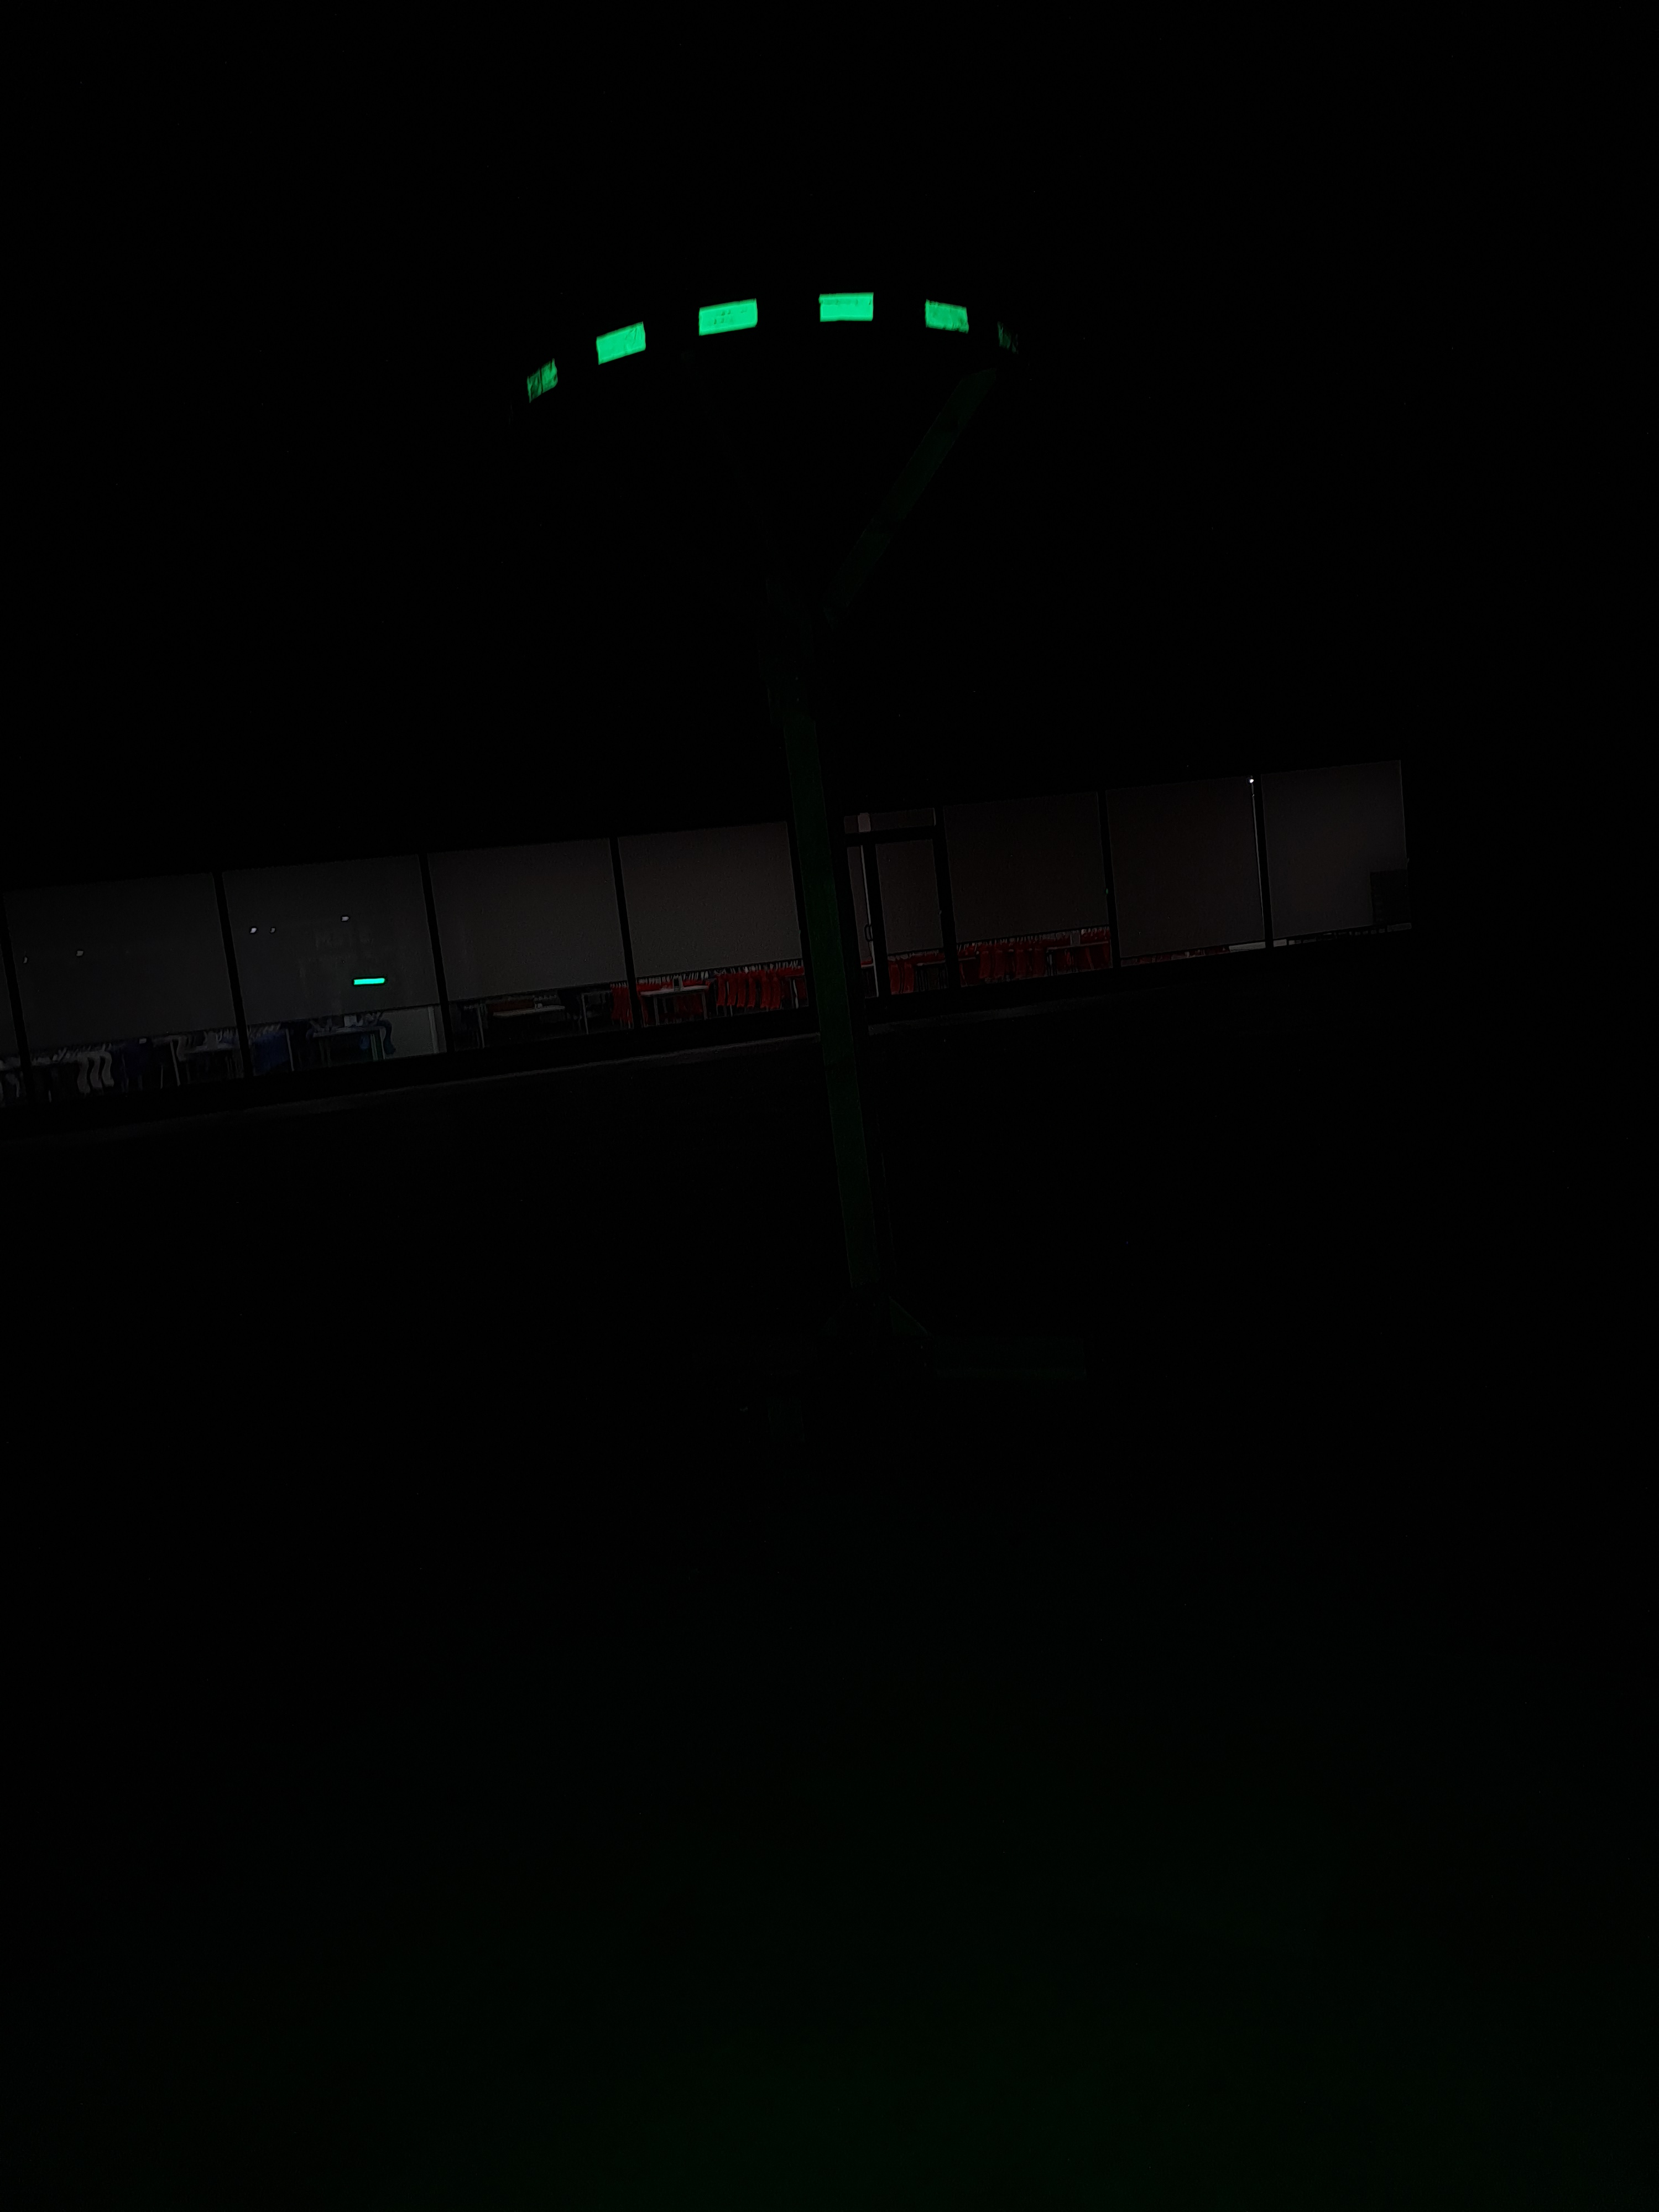hoop: (490, 289, 1032, 408)
